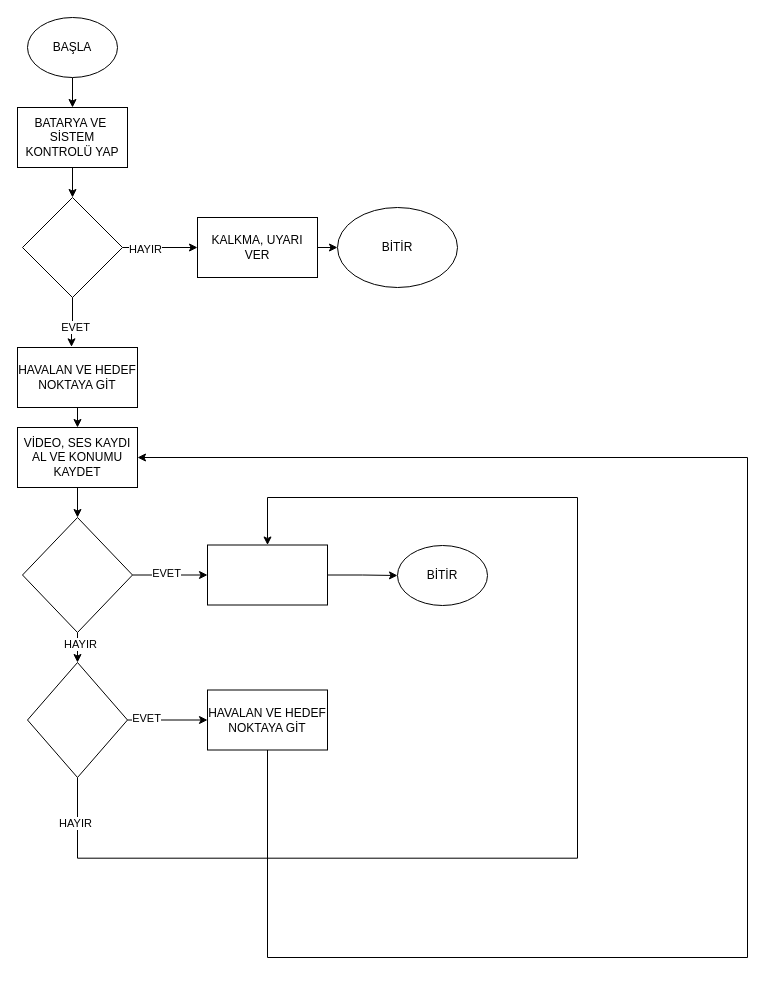
This 773x983 diagram has some shape labels left out. Each missing label, with the centre of its shape:
"BATARYA VE SİSTEM GÜVENLİ Mİ" belongs at point (72, 247).
"BAŞKA HEDEF KALDI MI" belongs at point (77, 720).
"GÜVENLİ GERİ DÖN VE BİTİR" belongs at point (267, 574).
"SIKINTI VAR MI" belongs at point (77, 574).
